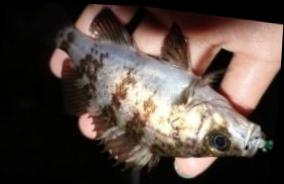fish: (57, 7, 264, 171)
